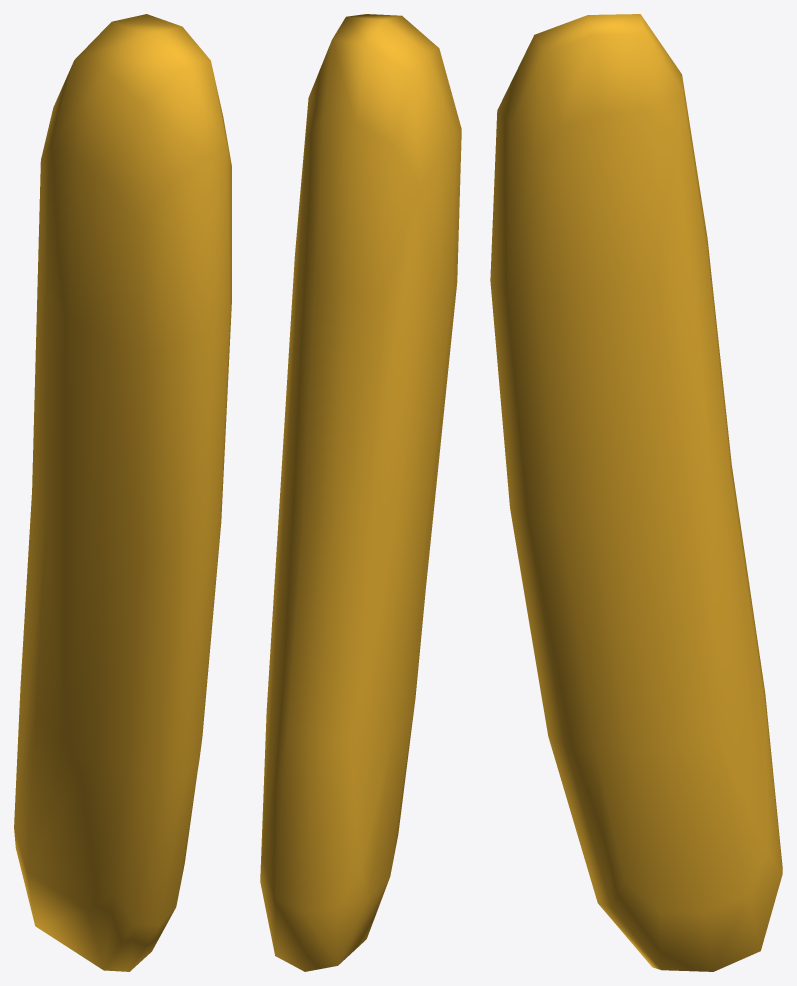
Rendered from nervoso-accessory-nucleus-of-oculomotor-nerve-r.glb.
The picture shows the model from 3 angles, left to right: view 1: azimuth 30°, elevation 25°; view 2: azimuth 150°, elevation 25°; view 3: azimuth 270°, elevation 25°; orthographic projection. The views are drawn at different scales.
Parts seen in each view (by area): view 1: Accessory nucleus of oculomotor nerve.r; view 2: Accessory nucleus of oculomotor nerve.r; view 3: Accessory nucleus of oculomotor nerve.r.
Boxes of the visible parts, box(x1,y1,x2,y2) form: Accessory nucleus of oculomotor nerve.r: box(14, 14, 231, 971); Accessory nucleus of oculomotor nerve.r: box(260, 14, 461, 971); Accessory nucleus of oculomotor nerve.r: box(490, 14, 782, 971).
Size of the model in its own units: 0.00132 by 0.00816 by 0.00228.
